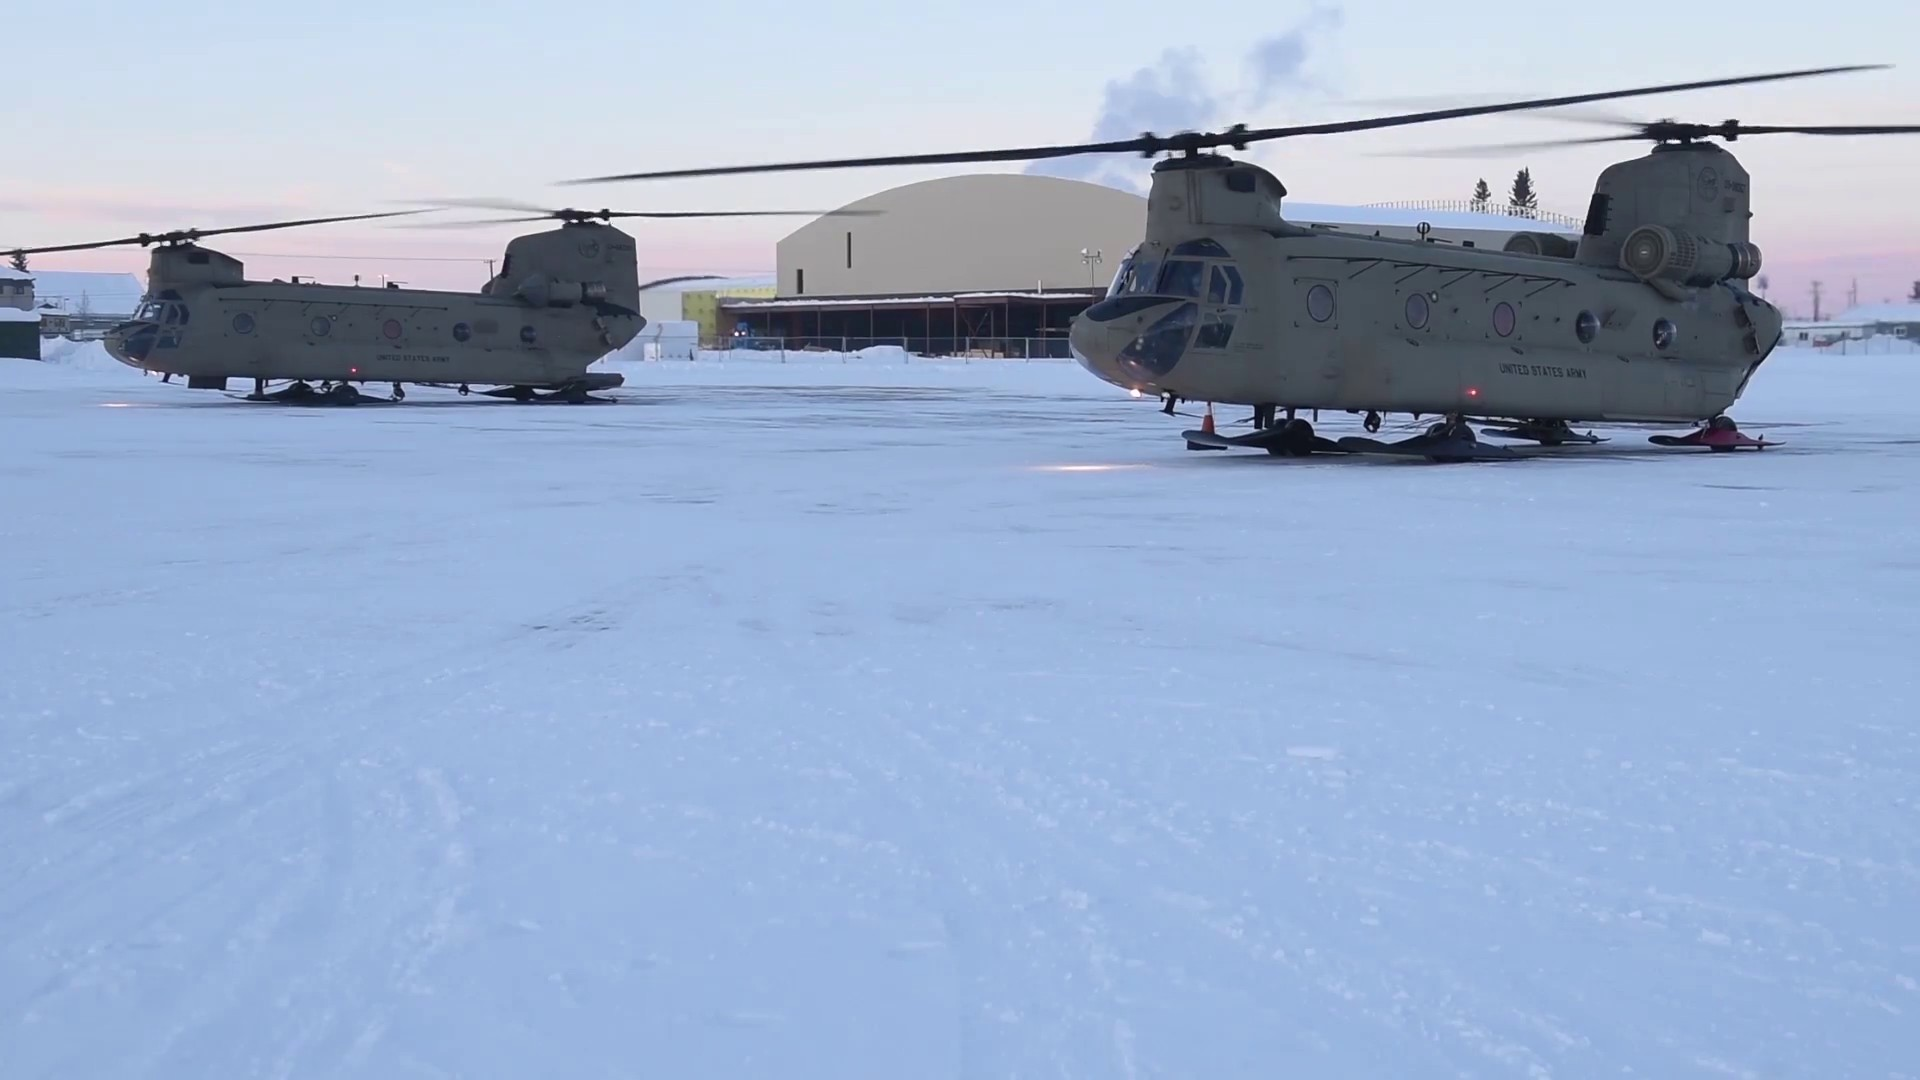chinook: (1015, 66, 1898, 469), (16, 203, 753, 405)
